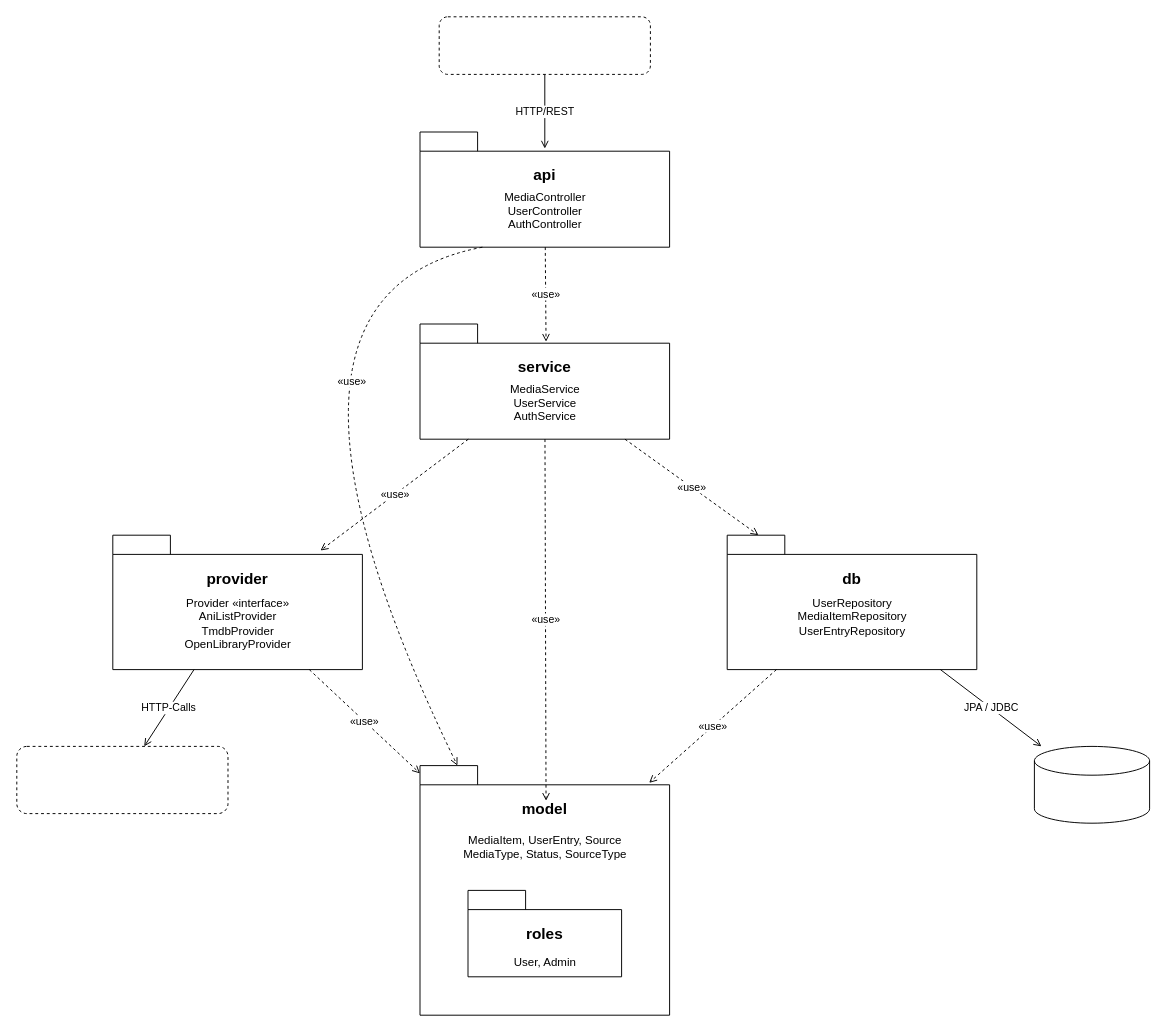
This 1166x1032 diagram has some shape labels left out. Here are the shapes that lost their labels. From the top down, the centre of each, then its label:
At pixel 544 45: "React-Frontend".
At pixel 122 779: "external APIs (AniList / TMDB / OpenLibrary)".
At pixel 1091 784: "Database".
